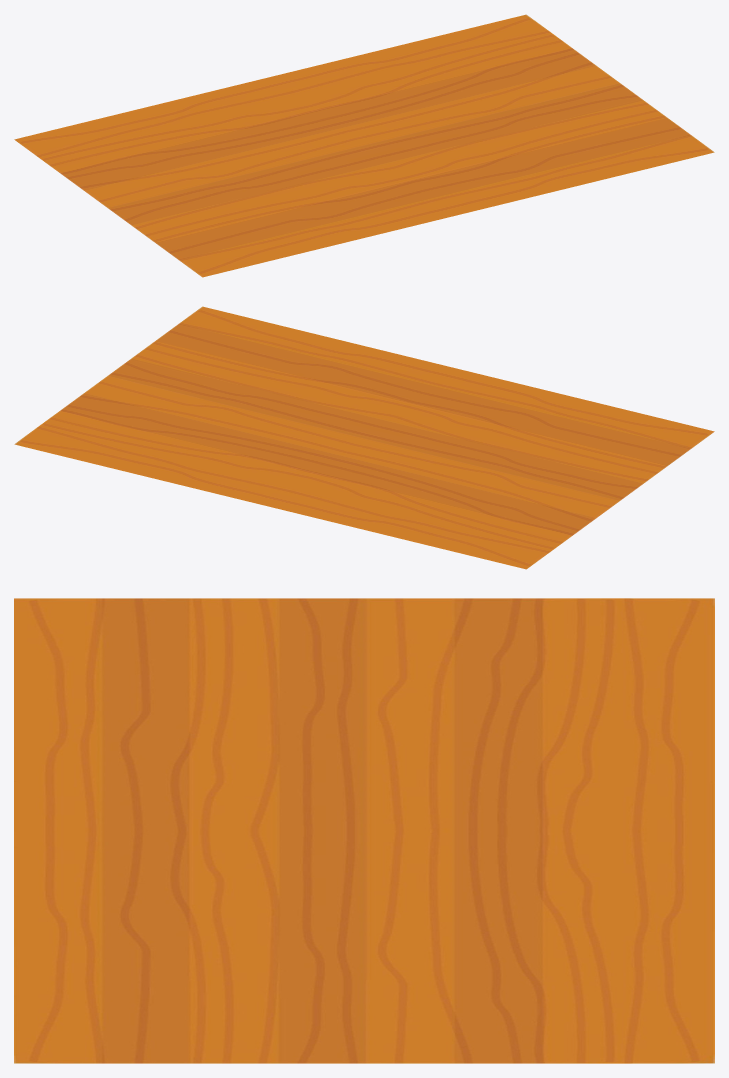
The model's file is piso.obj.
3 views of the same model, one above another, from view 1: azimuth 30°, elevation 25°; view 2: azimuth 150°, elevation 25°; view 3: azimuth 270°, elevation 25° (orthographic). The views are drawn at different scales.
Parts seen in each view (by area): view 1: polySurface51 pCube8; view 2: polySurface51 pCube8; view 3: polySurface51 pCube8.
Part boxes in pixels (x1=…): polySurface51 pCube8: x1=14, y1=14, x2=714, y2=277; polySurface51 pCube8: x1=14, y1=306, x2=714, y2=569; polySurface51 pCube8: x1=14, y1=598, x2=714, y2=1063.
Bounding box in the file's own units: 23.14 × 0 × 14.74.
1 material, 1 textured.
